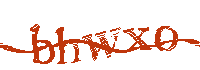b: (31, 25, 54, 67)
h: (56, 27, 81, 65)
o: (155, 23, 179, 53)
w: (82, 26, 123, 63)
x: (124, 25, 153, 51)
